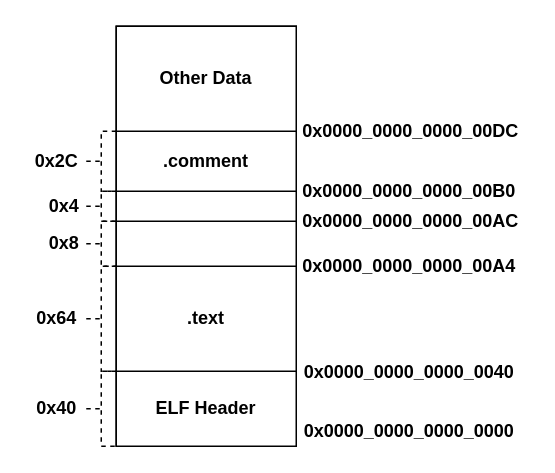
The diagram is 555 pixels wide and 473 high, and some of its shapes have lost their labels. Each missing label, with the box of its shape:
.data: (115, 220, 296, 266)
.rodata: (115, 190, 296, 221)
